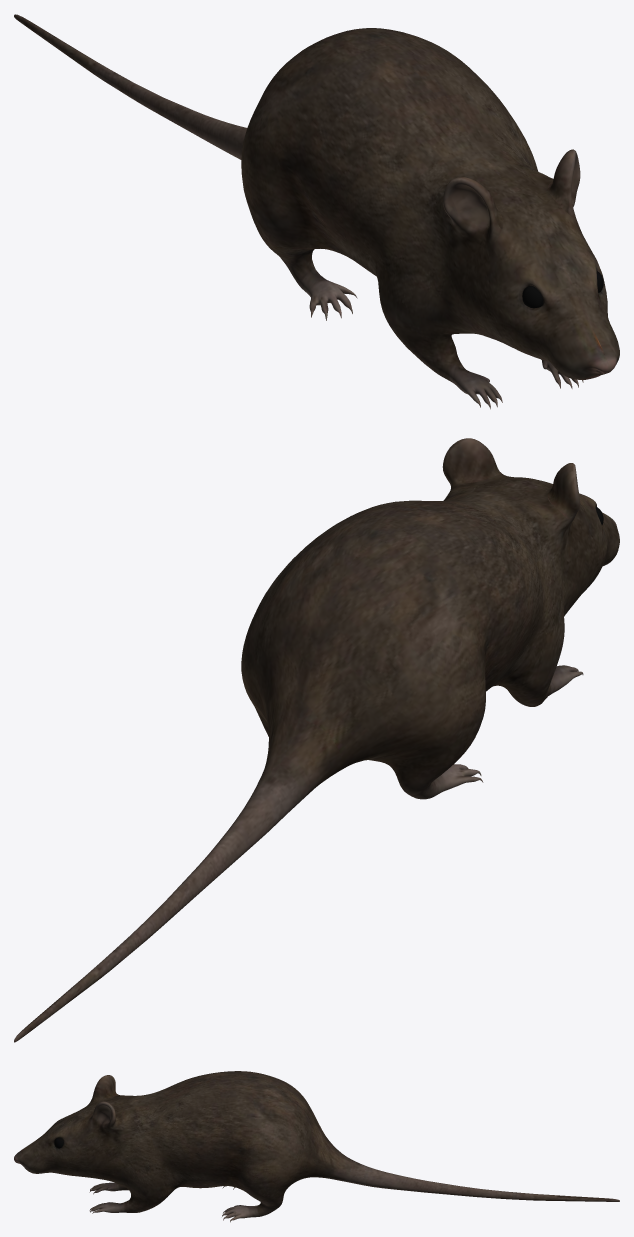
File: ph2_street_rat.glb
3 views of the same model, one above another, from view 1: azimuth 30°, elevation 25°; view 2: azimuth 150°, elevation 25°; view 3: azimuth 270°, elevation 25° (orthographic). The views are drawn at different scales.
Size of the model in its own units: 0.032 by 0.0339 by 0.1483.
Materials: 1 (1 with a texture image).
